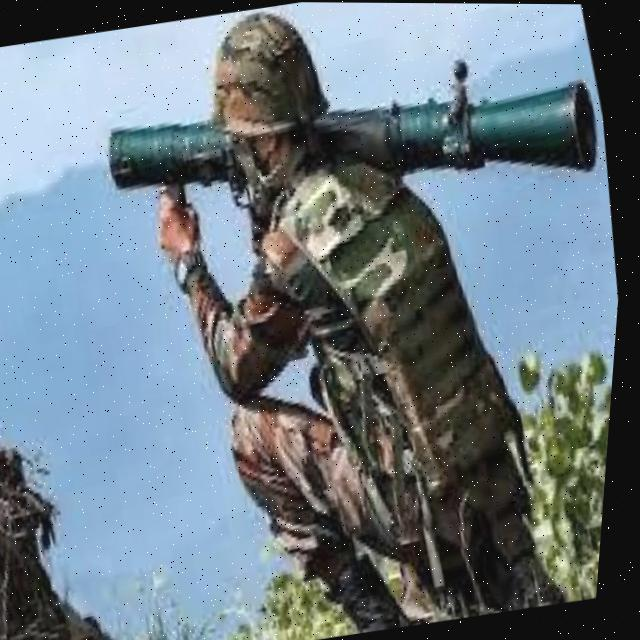rocket: (87, 1, 619, 288)
